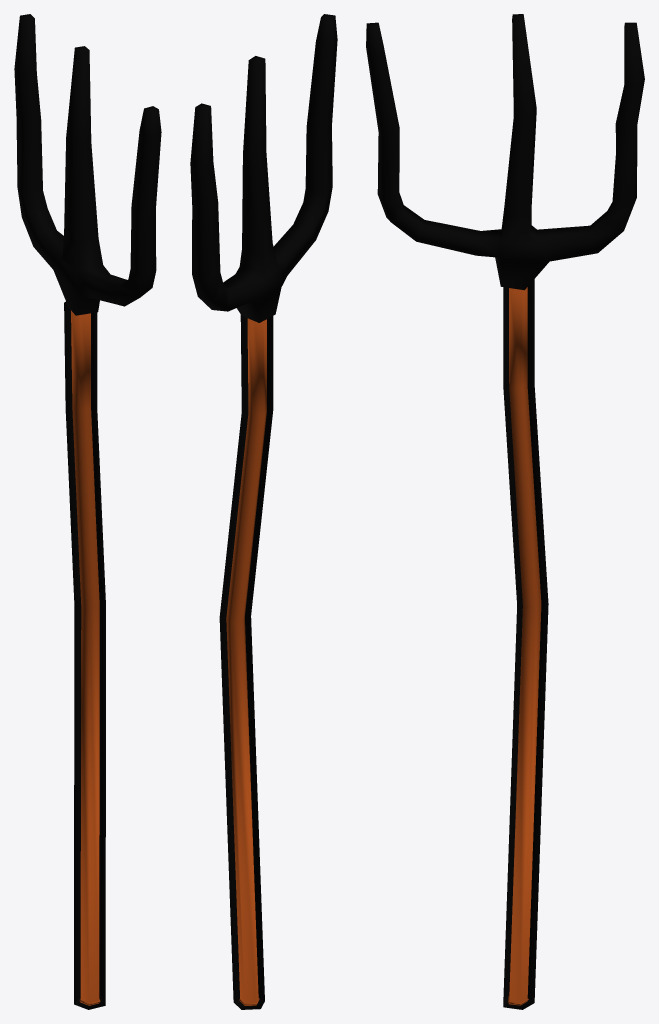
Rendered from Fork.fbx.
3 views of the same model, side by side, from view 1: azimuth 30°, elevation 25°; view 2: azimuth 150°, elevation 25°; view 3: azimuth 270°, elevation 25° (orthographic). The views are drawn at different scales.
Visible parts, largest first — view 1: S_Fork, S_Fork.001; view 2: S_Fork, S_Fork.001; view 3: S_Fork, S_Fork.001.
Boxes of the visible parts, box(x1,y1,x2,y2) form: S_Fork: box(64, 301, 105, 1009); S_Fork.001: box(14, 14, 161, 315); S_Fork: box(219, 314, 273, 1009); S_Fork.001: box(190, 14, 337, 322); S_Fork: box(503, 279, 548, 1009); S_Fork.001: box(366, 14, 644, 290).
Bounding box in the file's own units: 0.0723 × 1.53 × 0.3931.
